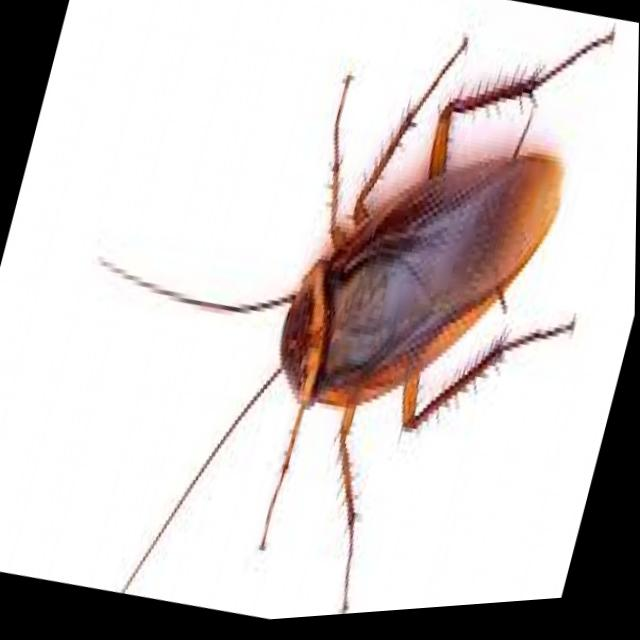Cockroach: (11, 0, 640, 639)
